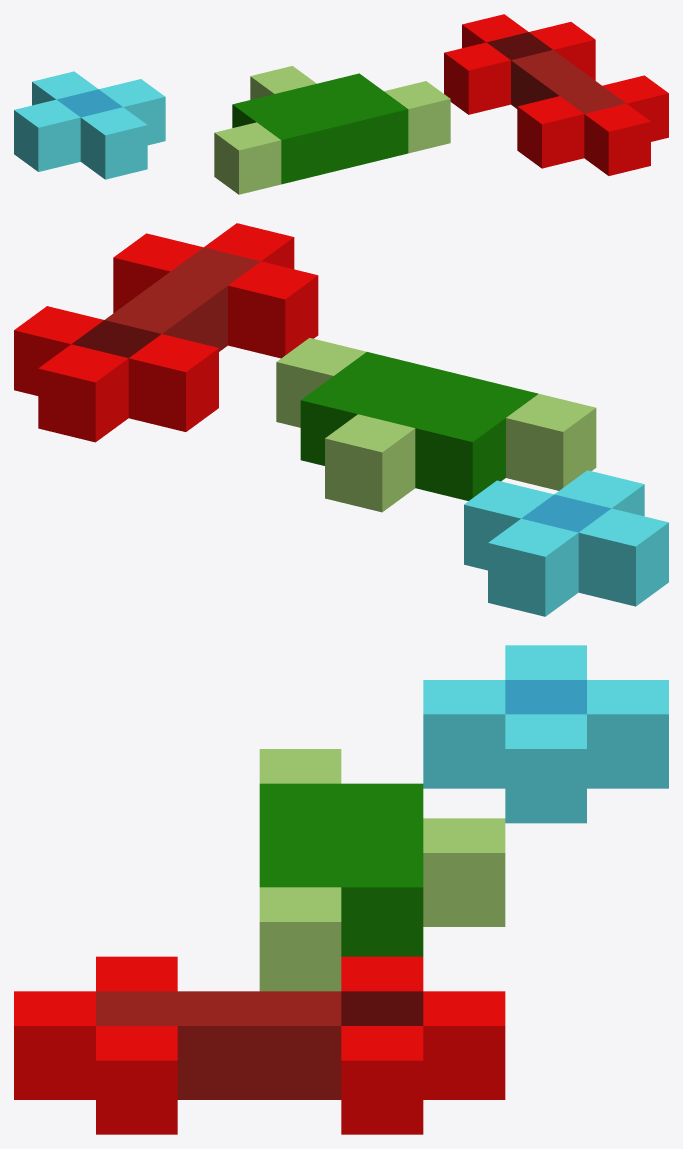
Rendered from Medieval Assets-211-Crafting - Table - Runecraft.obj.
The picture shows the model from 3 angles, top to bottom: view 1: azimuth 30°, elevation 25°; view 2: azimuth 150°, elevation 25°; view 3: azimuth 270°, elevation 25°; orthographic projection. The views are drawn at different scales.
Visible parts, largest first — view 1: Crafting - Table - Runecraft; view 2: Crafting - Table - Runecraft; view 3: Crafting - Table - Runecraft.
Boxes of the visible parts, x1=… form: Crafting - Table - Runecraft: x1=14, y1=14, x2=668, y2=194; Crafting - Table - Runecraft: x1=14, y1=223, x2=668, y2=616; Crafting - Table - Runecraft: x1=14, y1=645, x2=668, y2=1134.
Size of the model in its own units: 1.2 by 0.1 by 0.8.
1 material, 1 textured.
